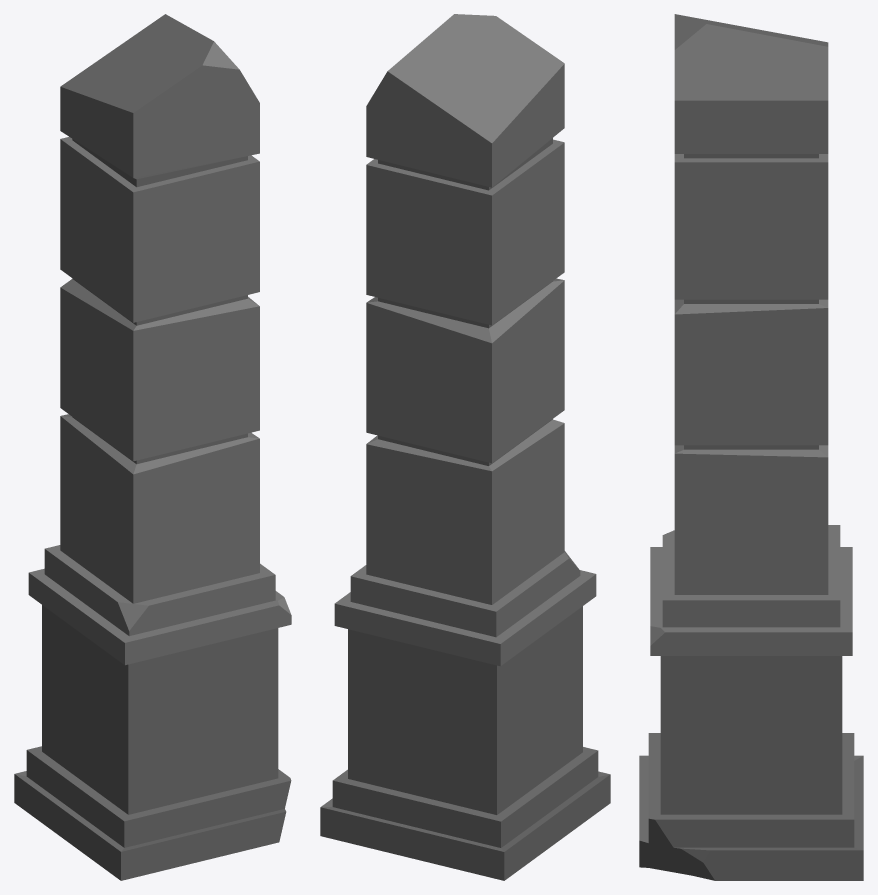
File: Ruins_03.fbx
3 renders of one model, left to right at view 1: azimuth 30°, elevation 25°; view 2: azimuth 150°, elevation 25°; view 3: azimuth 270°, elevation 25°, orthographic. The views are drawn at different scales.
Visible parts, largest first — view 1: Ruins_03_LOD0; view 2: Ruins_03_LOD0; view 3: Ruins_03_LOD0.
Boxes of the visible parts, left/top/right/bottom form: Ruins_03_LOD0: left=14, top=14, right=291, bottom=880; Ruins_03_LOD0: left=320, top=14, right=610, bottom=880; Ruins_03_LOD0: left=639, top=14, right=863, bottom=880.
Size of what is drawn, in the model's own units: 0.5369 by 2.18 by 0.5369.
